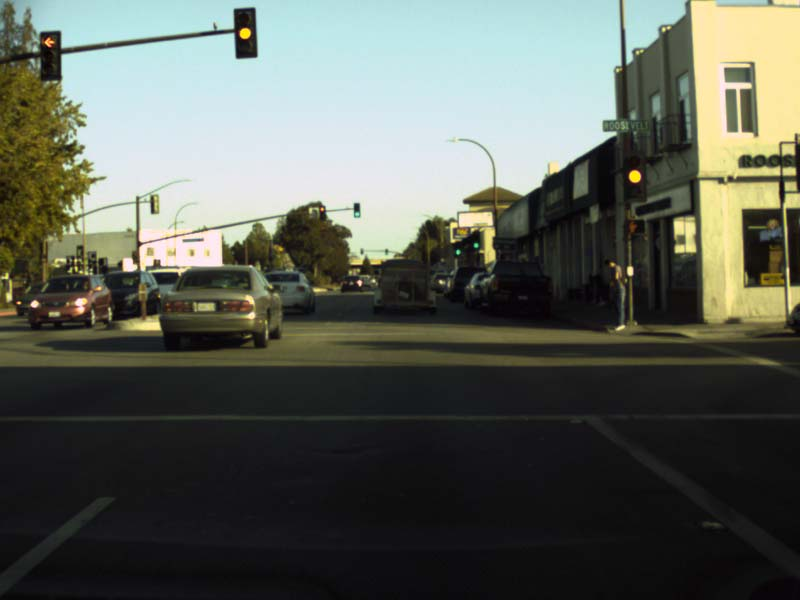Green: (471, 231, 479, 248), (353, 202, 360, 217), (454, 242, 461, 256)
Red: (39, 31, 60, 77), (319, 205, 325, 220)
Yellow: (233, 9, 257, 57), (625, 151, 645, 201)
